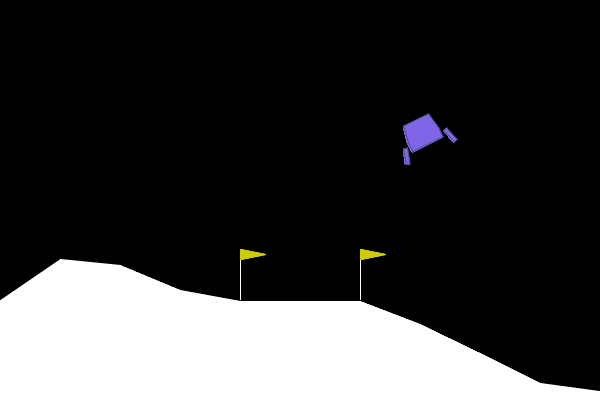lander: (388, 105, 459, 167)
